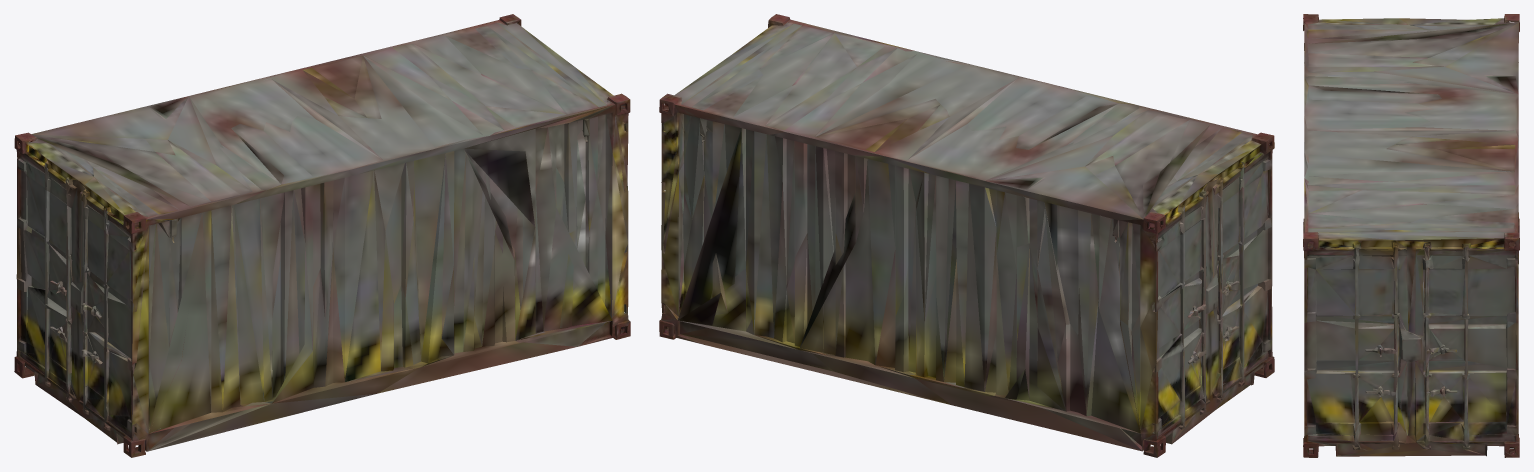
The model's file is container_grey.glb.
The picture shows the model from 3 angles, left to right: view 1: azimuth 30°, elevation 25°; view 2: azimuth 150°, elevation 25°; view 3: azimuth 270°, elevation 25°; orthographic projection. The views are drawn at different scales.
Parts seen in each view (by area): view 1: Mesh_0; view 2: Mesh_0; view 3: Mesh_0.
Boxes of the visible parts, box(x1,y1,x2,y2) form: Mesh_0: box(14, 14, 630, 457); Mesh_0: box(659, 14, 1274, 457); Mesh_0: box(1303, 14, 1519, 457).
Bounding box in the file's own units: 1.9 × 0.8589 × 0.7679.
Materials: 1 (1 with a texture image).
